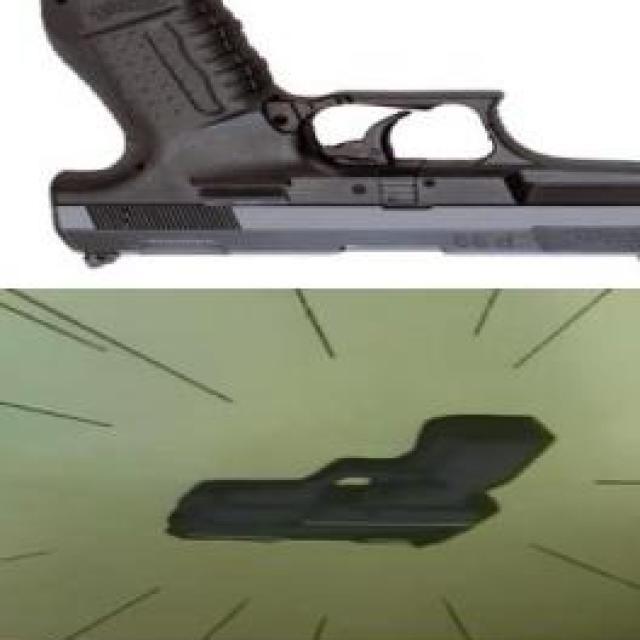pistol: (36, 0, 640, 267), (164, 412, 555, 550)
